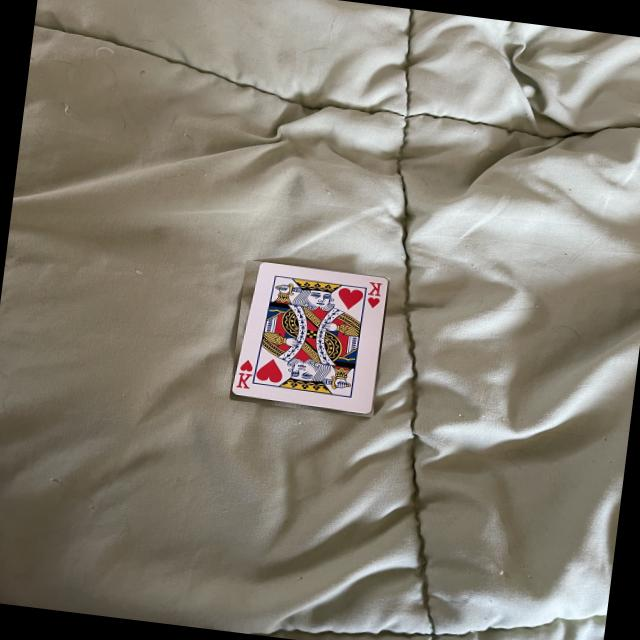King of hearts: (230, 262, 389, 417)
